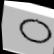no answer: (12, 10, 54, 51)
